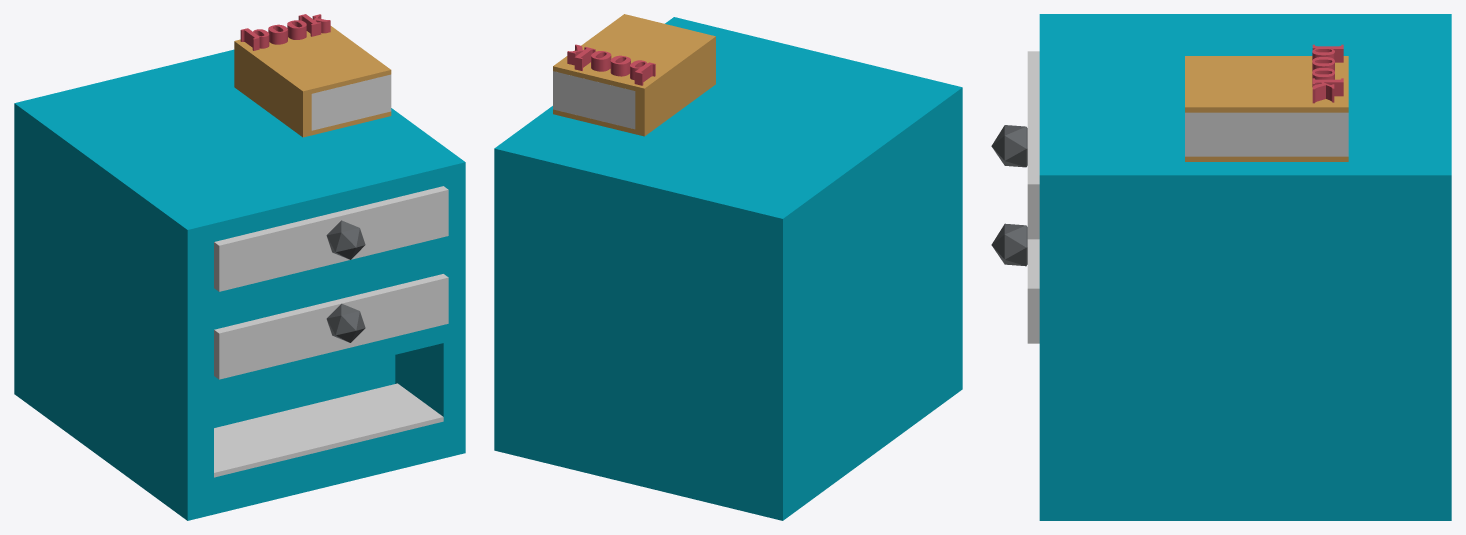
File: Cool Blad-Krunk.glb
The picture shows the model from 3 angles, left to right: view 1: azimuth 30°, elevation 25°; view 2: azimuth 150°, elevation 25°; view 3: azimuth 270°, elevation 25°; orthographic projection. The views are drawn at different scales.
Parts seen in each view (by area): view 1: Mesh_Mesh_head_geo.001_lambert2SG.001; view 2: Mesh_Mesh_head_geo.001_lambert2SG.001; view 3: Mesh_Mesh_head_geo.001_lambert2SG.001.
Boxes of the visible parts, x1=… form: Mesh_Mesh_head_geo.001_lambert2SG.001: x1=14, y1=14, x2=465, y2=520; Mesh_Mesh_head_geo.001_lambert2SG.001: x1=494, y1=14, x2=962, y2=520; Mesh_Mesh_head_geo.001_lambert2SG.001: x1=991, y1=14, x2=1451, y2=520.
Bounding box in the file's own units: 63 × 76.52 × 76.
